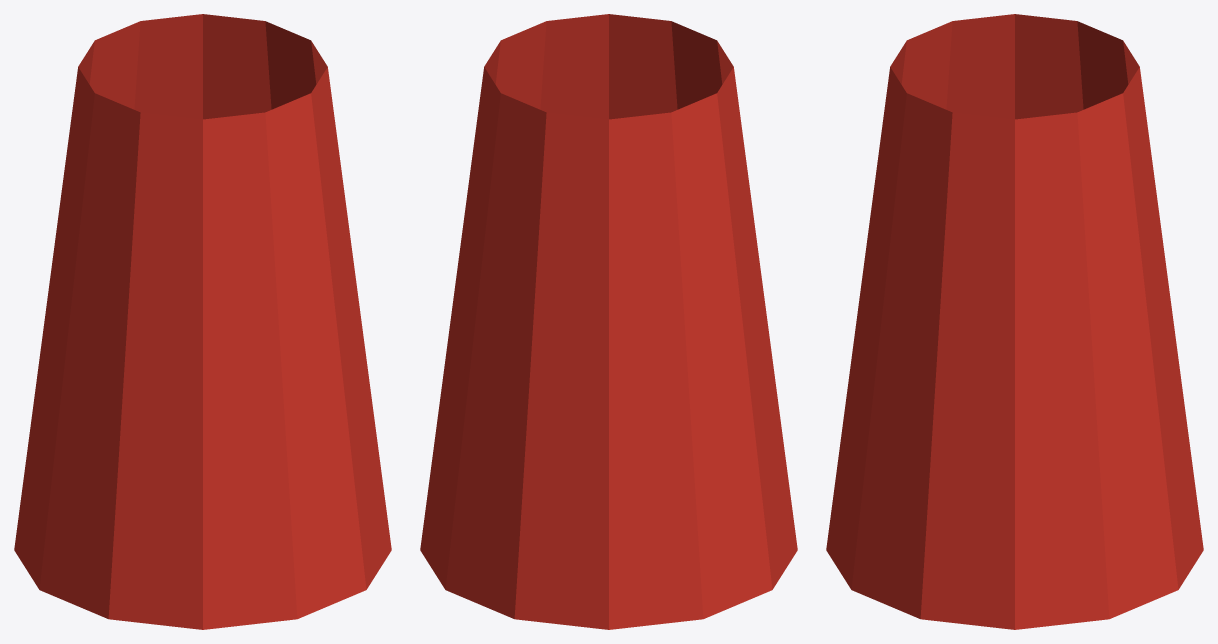
Rendered from Hub_Fire.fbx.
The picture shows the model from 3 angles, left to right: view 1: azimuth 30°, elevation 25°; view 2: azimuth 150°, elevation 25°; view 3: azimuth 270°, elevation 25°; orthographic projection.
Visible parts, largest first — view 1: Fire; view 2: Fire; view 3: Fire.
Boxes of the visible parts, x1,y1,x2,y2 form: Fire: [14, 14, 391, 629]; Fire: [420, 14, 797, 629]; Fire: [826, 14, 1203, 629].
Bounding box in the file's own units: 48 × 67.8 × 48.
